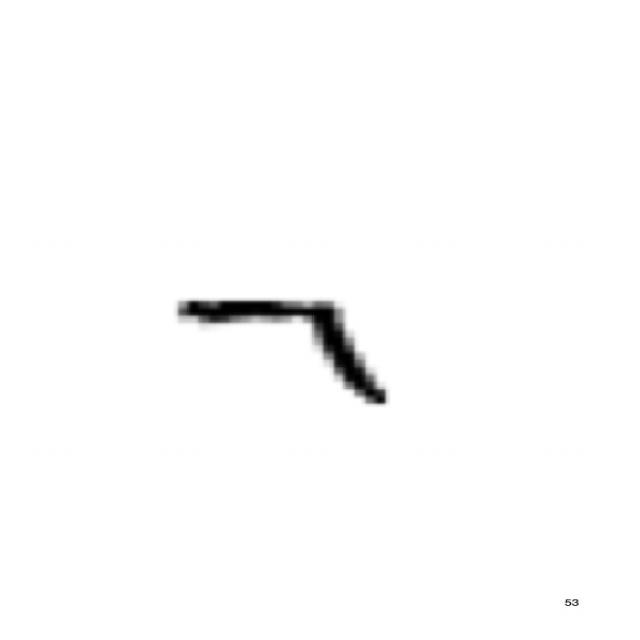6 -six-: (162, 287, 404, 422)
